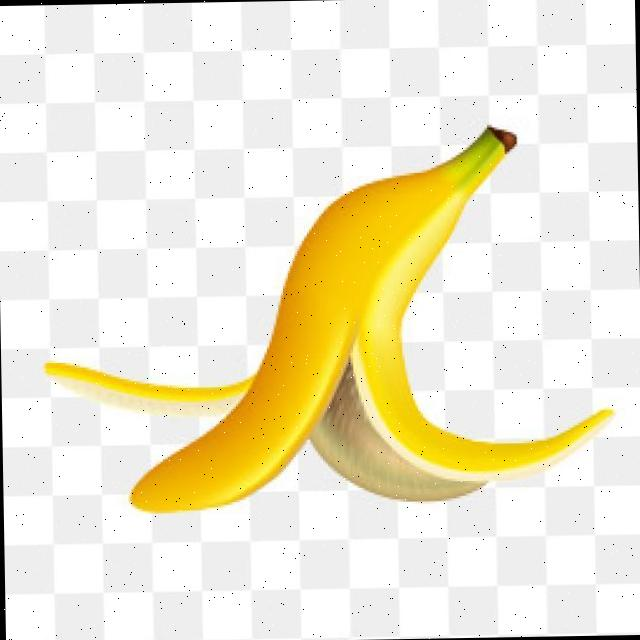banana-peel: (38, 120, 614, 515)
